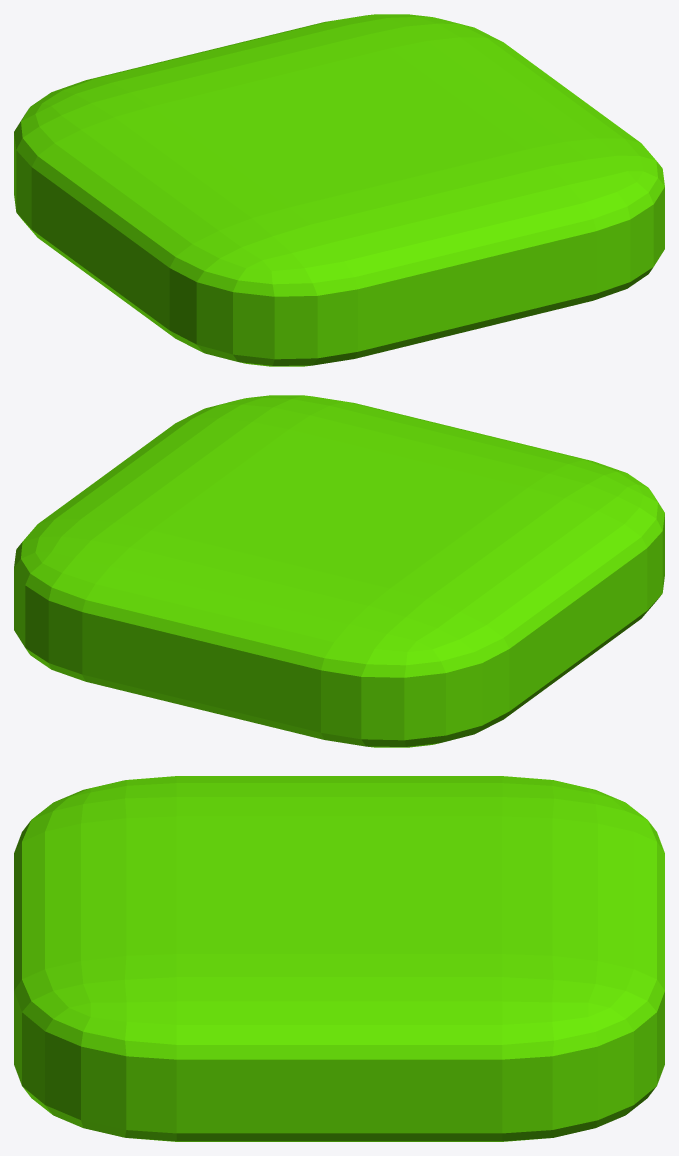
File: Striker4.glb
The picture shows the model from 3 angles, top to bottom: view 1: azimuth 30°, elevation 25°; view 2: azimuth 150°, elevation 25°; view 3: azimuth 270°, elevation 25°; orthographic projection. The views are drawn at different scales.
Visible parts, largest first — view 1: Cube; view 2: Cube; view 3: Cube.
Boxes of the visible parts, x1,y1,x2,y2 form: Cube: (14,14,664,366); Cube: (14,395,664,747); Cube: (14,776,664,1141).
Size of the model in its own units: 2 by 0.5 by 2.
